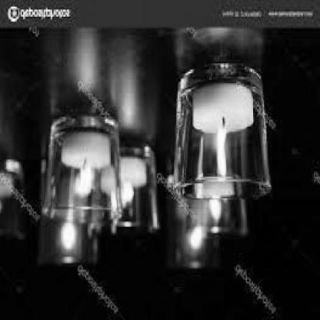Fire: (209, 117, 235, 179), (71, 167, 97, 203), (58, 217, 78, 251), (184, 225, 204, 249)
